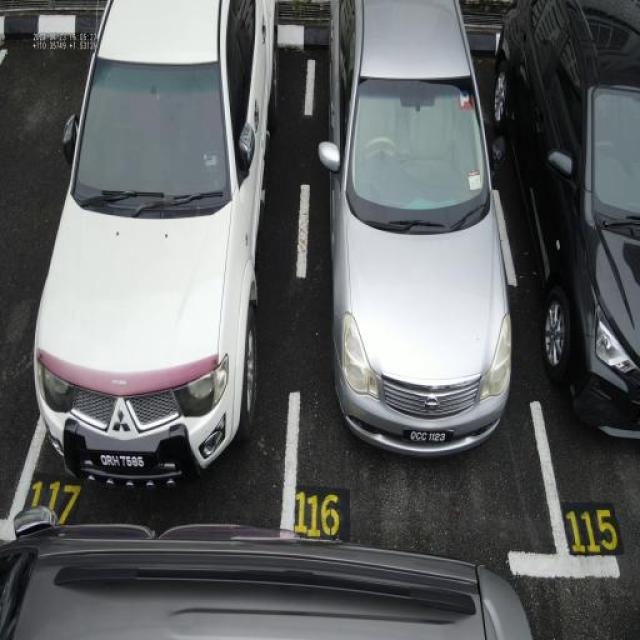Legalparking: (12, 0, 636, 497)
illegalparking: (2, 490, 541, 640)
